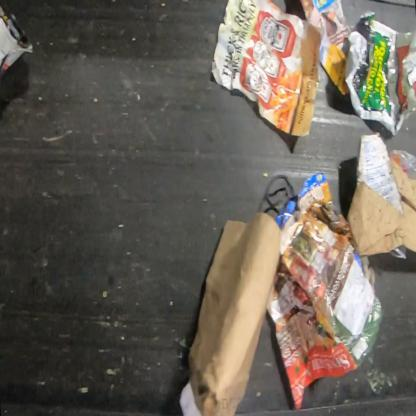cardboard: (189, 212, 281, 416), (346, 133, 416, 260)
rigid_plastic: (390, 148, 416, 179), (389, 246, 410, 260)
soft_plastic: (345, 11, 415, 139)
